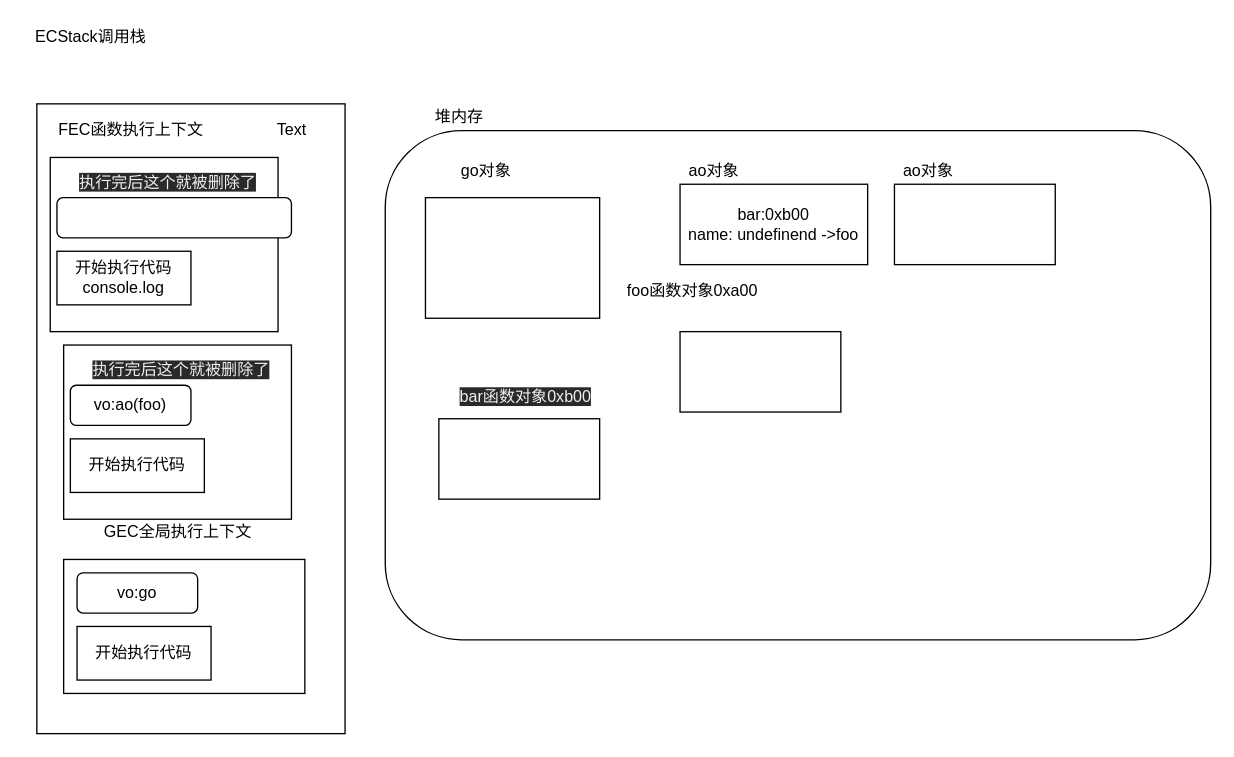
This 1234x757 diagram has some shape labels left out. The box of each missing label's shape, as (x1, y1, x2, y2) in pixels:
string settimeout window foo: 0xa00 fn：undefined->0xb00: (424, 196, 600, 318)
vo:ao(bar) scope chain: vo +parentScope: (56, 196, 291, 238)
